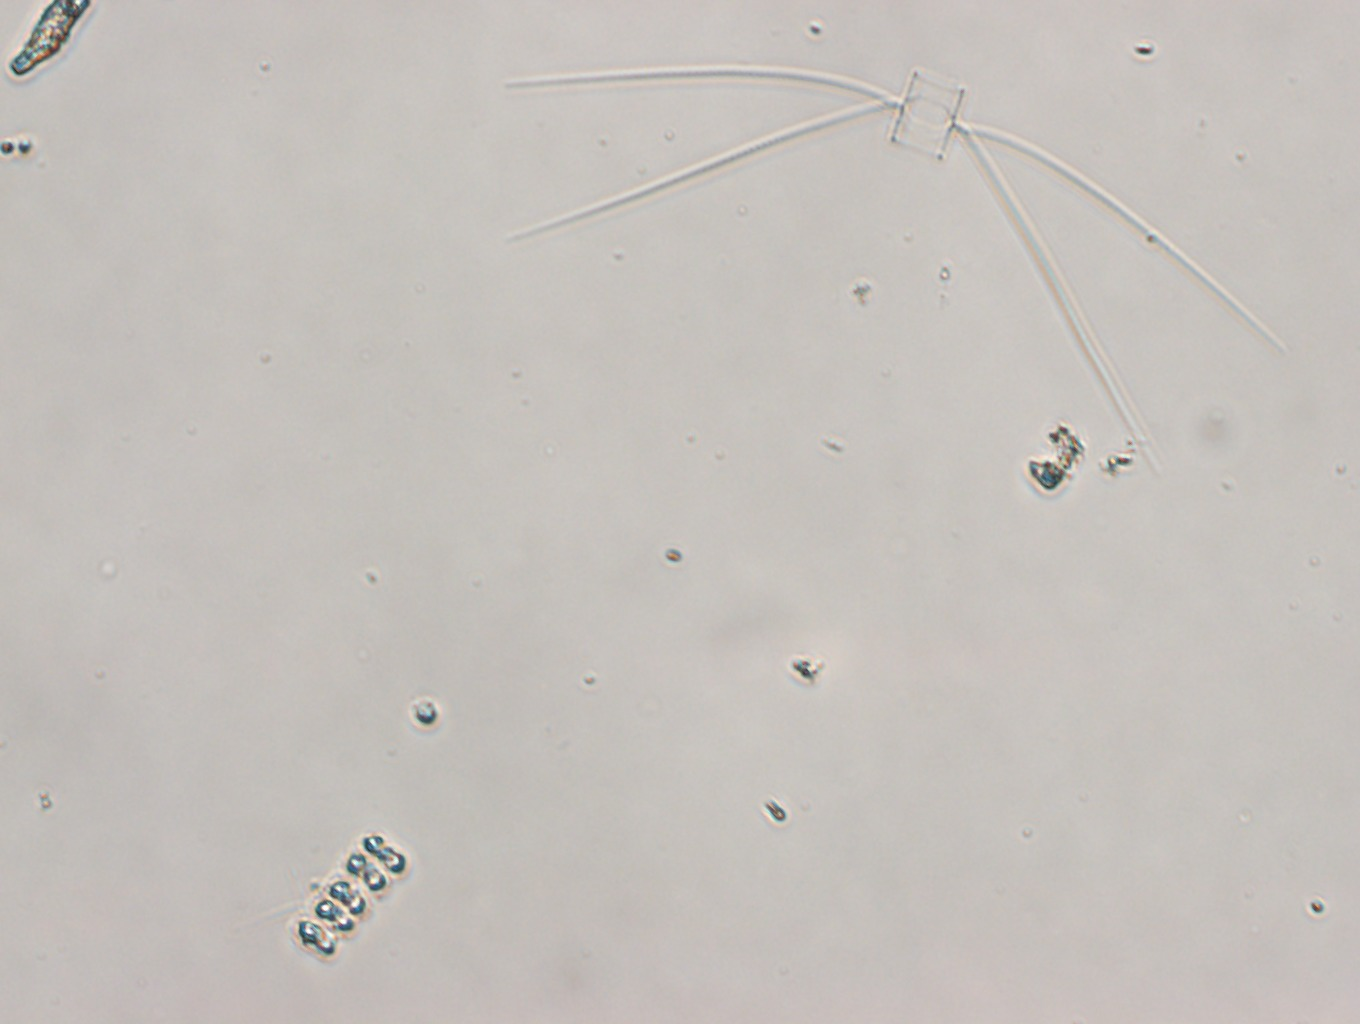chaetoceros: (505, 62, 1291, 477), (266, 833, 409, 959)
